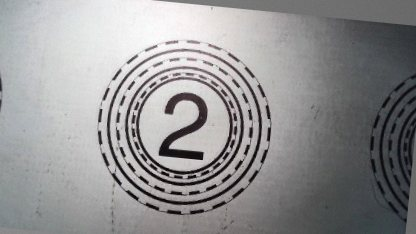2r: (89, 33, 278, 223)
